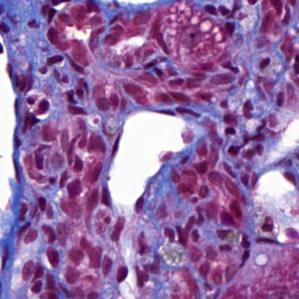inflammation: (223, 125, 268, 162), (57, 81, 92, 118), (21, 87, 56, 124)
